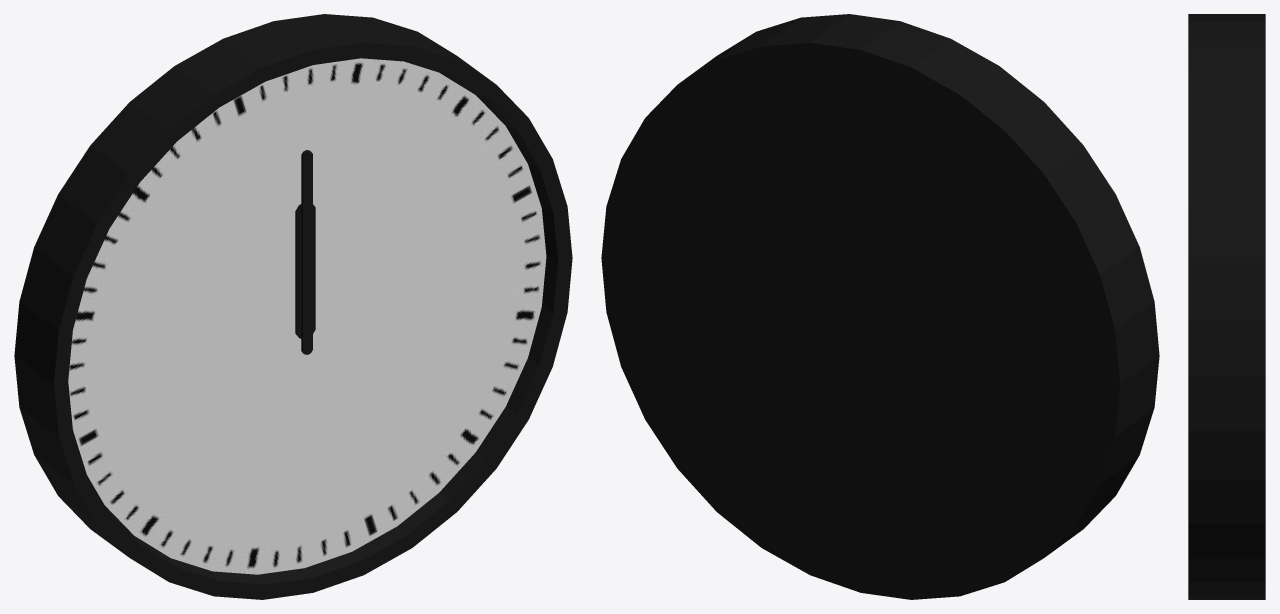
Rendered from clock.fbx.
3 views of the same model, side by side, from view 1: azimuth 30°, elevation 25°; view 2: azimuth 150°, elevation 25°; view 3: azimuth 270°, elevation 25° (orthographic). The views are drawn at different scales.
Visible parts, largest first — view 1: Cylinder, Cylinder.002, Cylinder.001; view 2: Cylinder; view 3: Cylinder.
Part boxes in pixels (bbox=[...]): Cylinder: bbox=[14, 14, 572, 599]; Cylinder.002: bbox=[301, 150, 312, 354]; Cylinder.001: bbox=[295, 204, 315, 338]; Cylinder: bbox=[601, 14, 1159, 599]; Cylinder: bbox=[1188, 14, 1265, 599].
Size of the model in its own units: 519 by 519 by 68.28.
